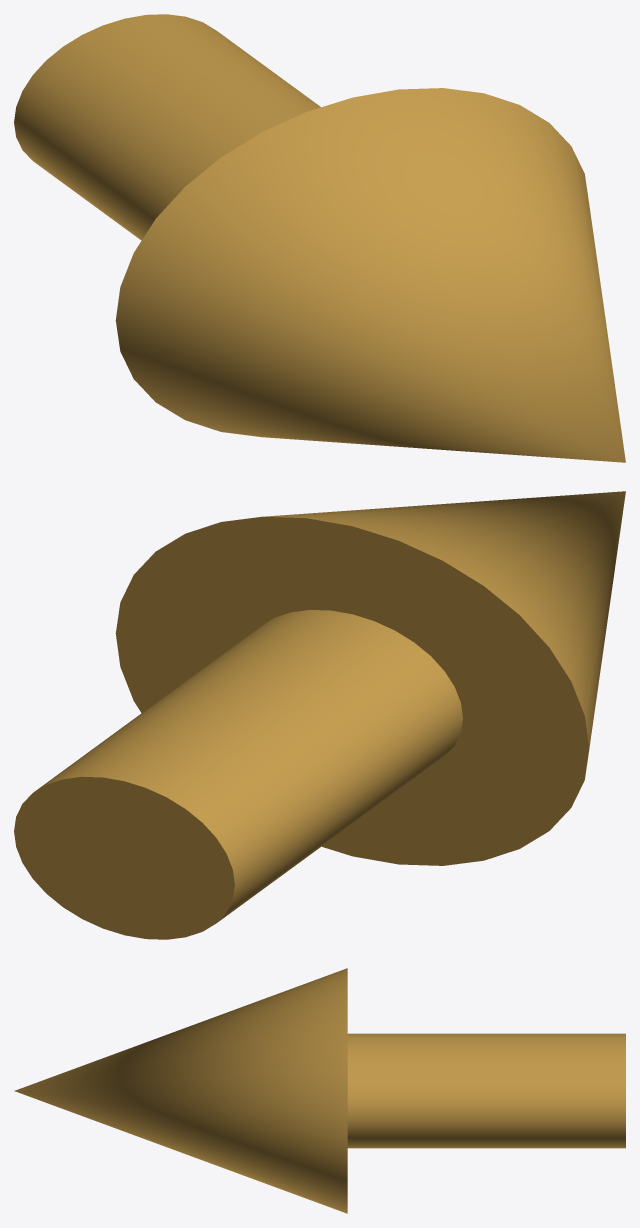
Rendered from Arrow.fbx.
3 renders of one model, top to bottom at view 1: azimuth 30°, elevation 25°; view 2: azimuth 150°, elevation 25°; view 3: azimuth 270°, elevation 25°, orthographic. The views are drawn at different scales.
Visible parts, largest first — view 1: Cone; view 2: Cone; view 3: Cone.
Part boxes in pixels (x1,y1,x2,y2): Cone: (14, 14, 625, 462); Cone: (14, 491, 625, 939); Cone: (14, 968, 625, 1213).
Size of the model in its own units: 200 by 133 by 367.
